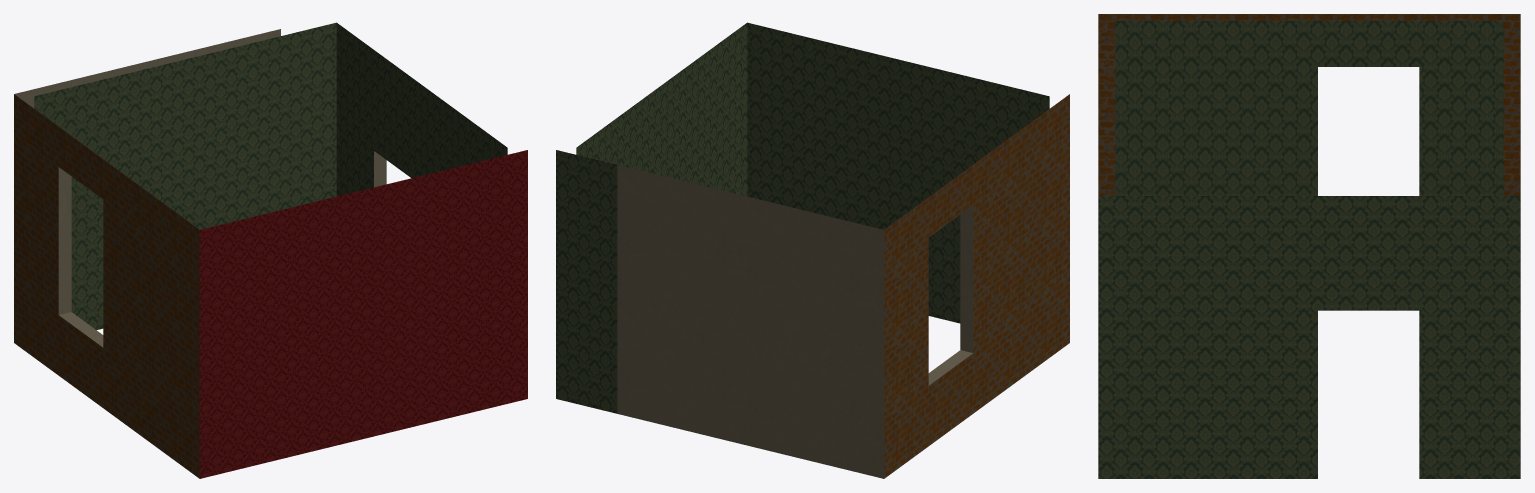
Rendered from Mesh_Walls_Bedroom_01.gltf.
3 views of the same model, side by side, from view 1: azimuth 30°, elevation 25°; view 2: azimuth 150°, elevation 25°; view 3: azimuth 270°, elevation 25° (orthographic). The views are drawn at different scales.
Parts seen in each view (by area): view 1: Mesh_Walls_Bedroom_01; view 2: Mesh_Walls_Bedroom_01; view 3: Mesh_Walls_Bedroom_01.
Boxes of the visible parts, x1,y1,x2,y2 form: Mesh_Walls_Bedroom_01: (14, 22, 527, 478); Mesh_Walls_Bedroom_01: (556, 22, 1069, 478); Mesh_Walls_Bedroom_01: (1098, 14, 1520, 478).
Bounding box in the file's own units: 5.1 × 3.7 × 5.
Materials: 6 (6 with a texture image).
